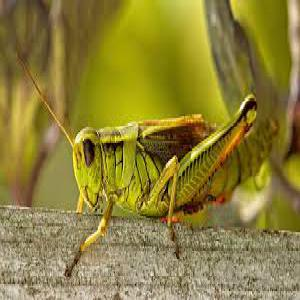locust: (50, 90, 286, 230)
